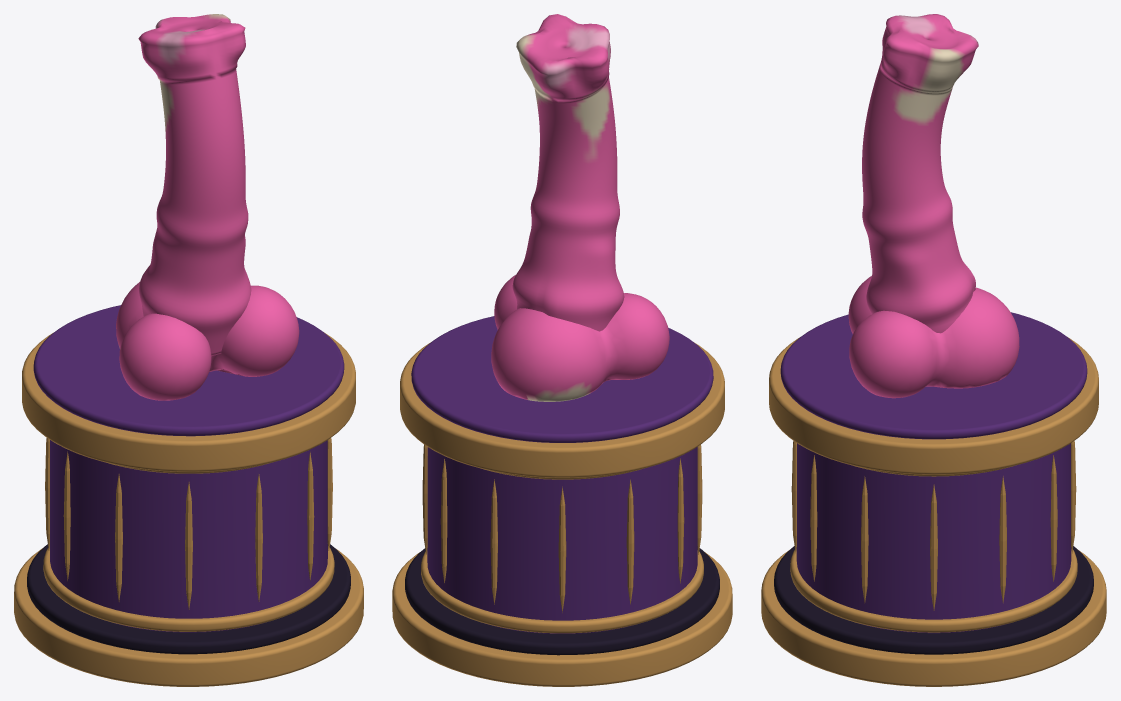
The model's file is knight.glb.
The picture shows the model from 3 angles, left to right: view 1: azimuth 30°, elevation 25°; view 2: azimuth 150°, elevation 25°; view 3: azimuth 270°, elevation 25°; orthographic projection. The views are drawn at different scales.
Visible parts, largest first — view 1: casino_pedestal, knight_original_knight; view 2: casino_pedestal, knight_original_knight; view 3: casino_pedestal, knight_original_knight.
Boxes of the visible parts, bbox=[...] form: casino_pedestal: bbox=[14, 305, 363, 686]; knight_original_knight: bbox=[116, 14, 299, 400]; casino_pedestal: bbox=[392, 316, 732, 686]; knight_original_knight: bbox=[491, 14, 669, 401]; casino_pedestal: bbox=[761, 312, 1106, 686]; knight_original_knight: bbox=[848, 14, 1019, 398].
Bounding box in the file's own units: 0.68 × 1.28 × 0.68.
